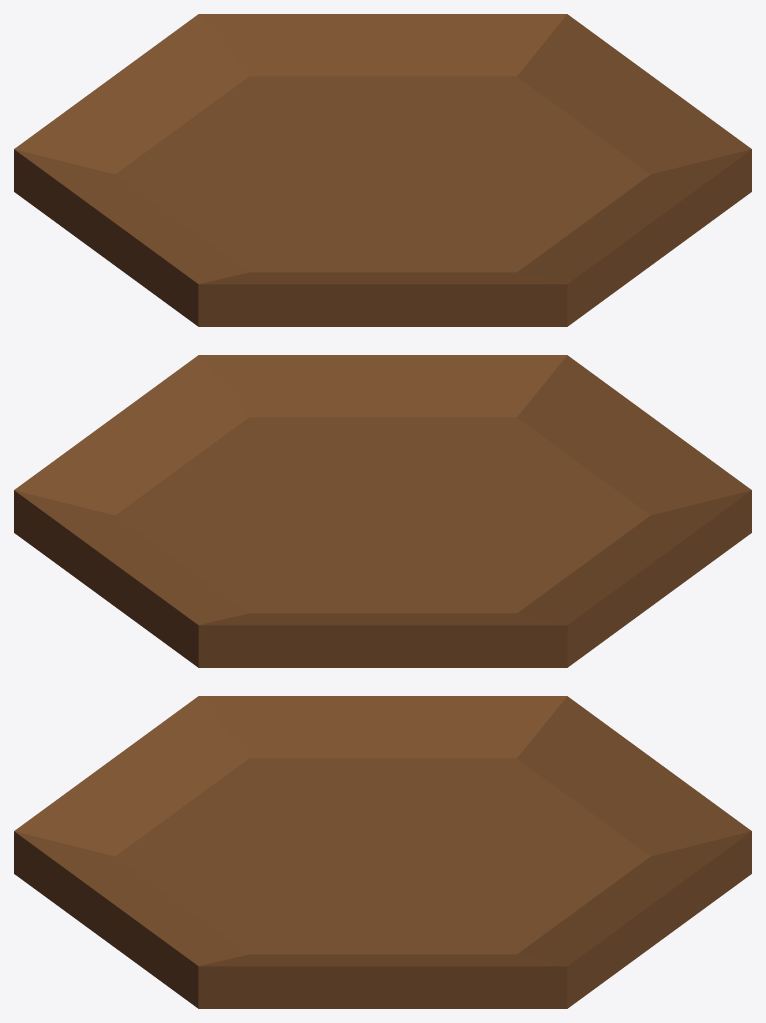
The model's file is Plate.fbx.
3 views of the same model, one above another, from view 1: azimuth 30°, elevation 25°; view 2: azimuth 150°, elevation 25°; view 3: azimuth 270°, elevation 25° (orthographic).
Parts seen in each view (by area): view 1: Plate; view 2: Plate; view 3: Plate.
Boxes of the visible parts, x1,y1,x2,y2 form: Plate: [14, 14, 751, 326]; Plate: [14, 355, 751, 667]; Plate: [14, 696, 751, 1008].
Size of the model in its own units: 0.3566 by 0.0263 by 0.4118.
